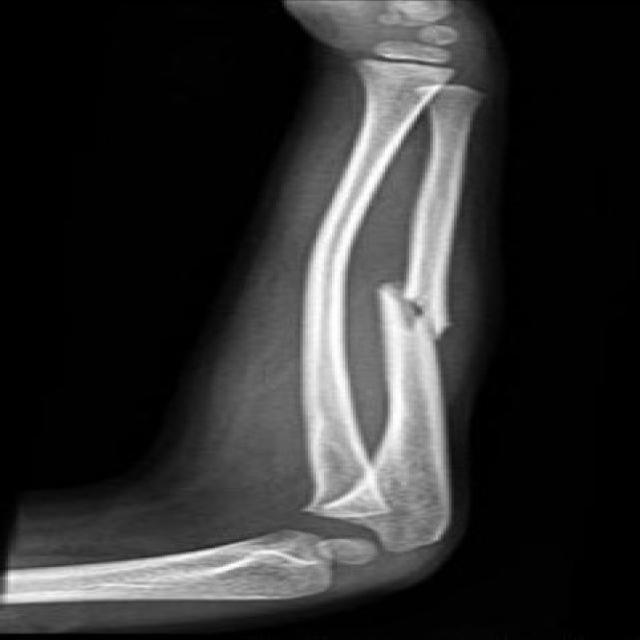Impacted: (341, 262, 522, 357)
